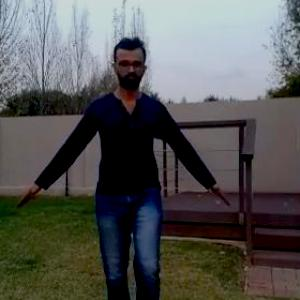land: (35, 36, 221, 299)
